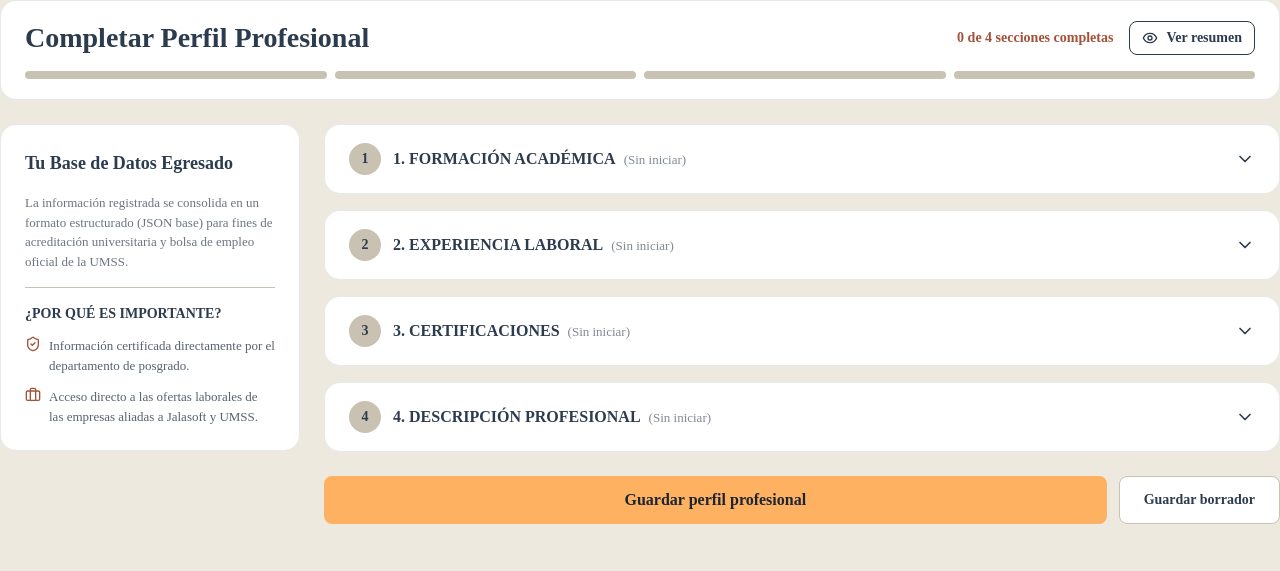
Test: Completar perfil · guardar formación académica en la API › 400: muestra el mensaje del backend y no agrega
Click the button "1 1. Formación académica (Sin iniciar)" at point(365, 159), box [325,125,1279,193]
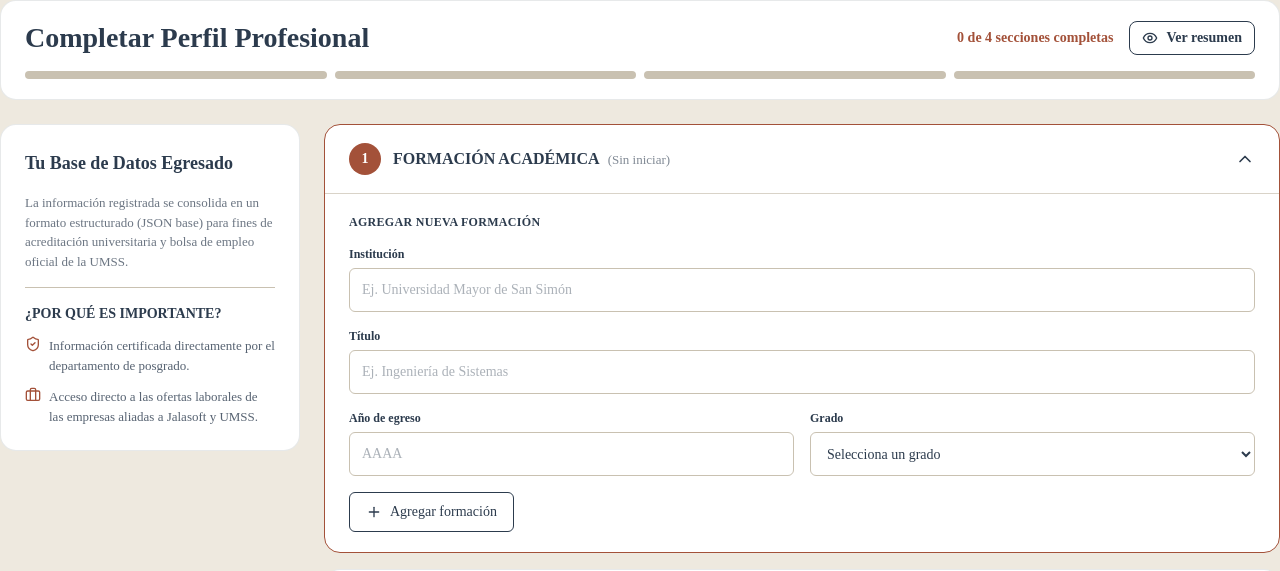
Type "UMSS" into the field labelled "Institución" at point(802, 290), box [349,268,1255,312]
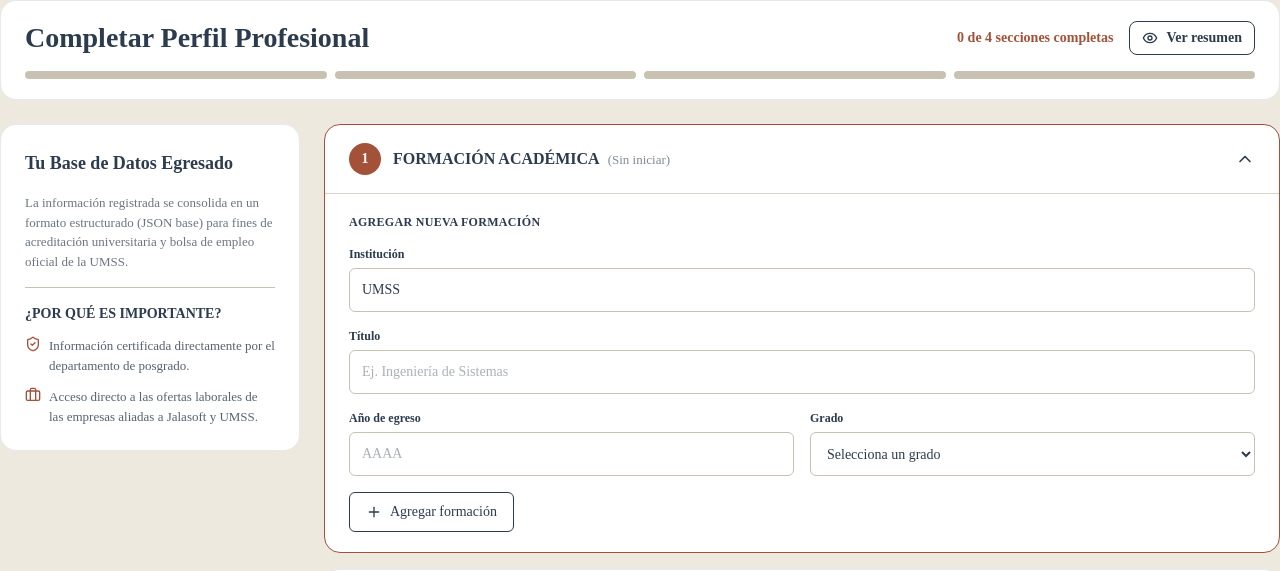
Type "Ingeniería de Sistemas" into the field labelled "Título" at point(802, 372), box [349,350,1255,394]
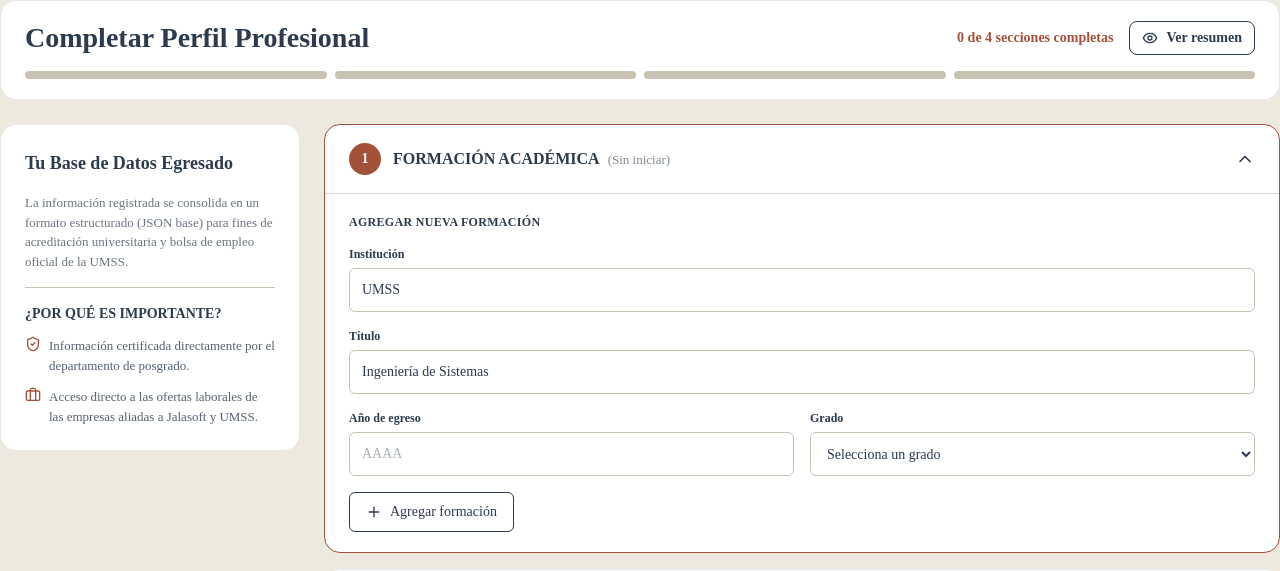
Type "2018" into the field labelled "Año de egreso" at point(572, 454), box [349,432,794,476]
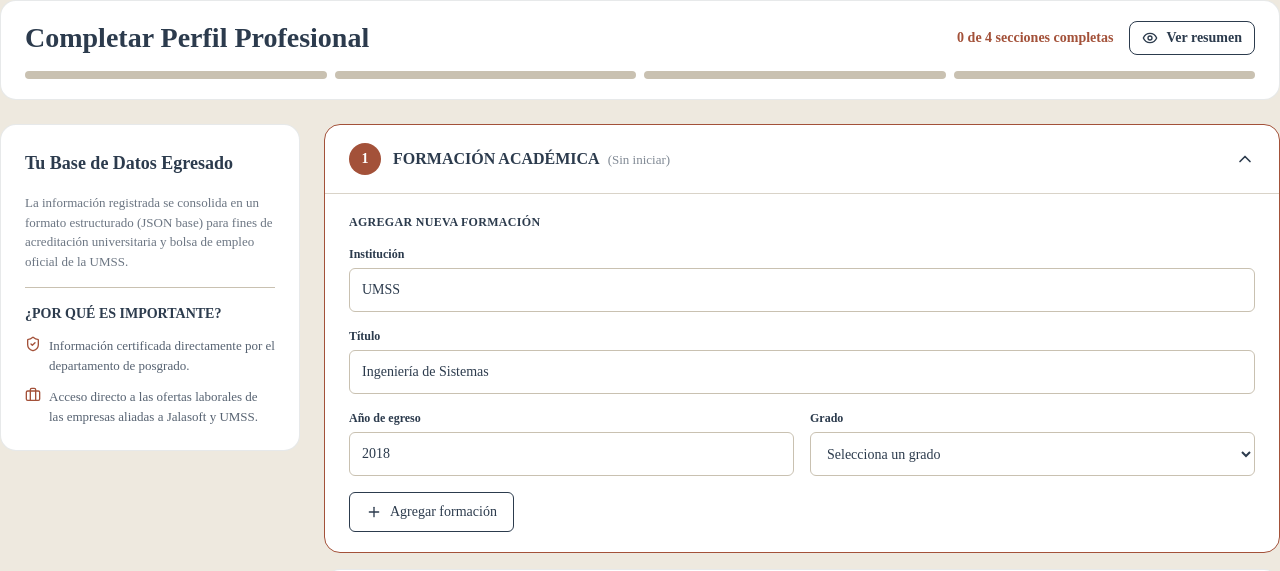
Select "Licenciatura" in the dropdown labelled "Grado" at point(1032, 454), box [810,432,1255,476]
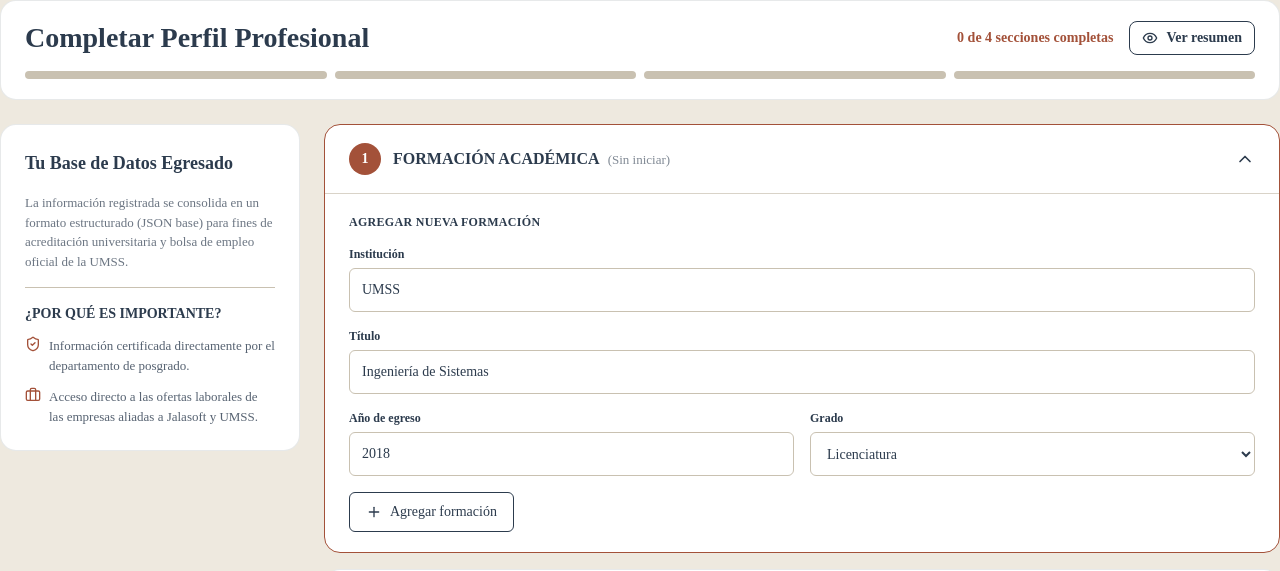
Click the button "Agregar formación" at point(431, 512), box [349,492,514,532]
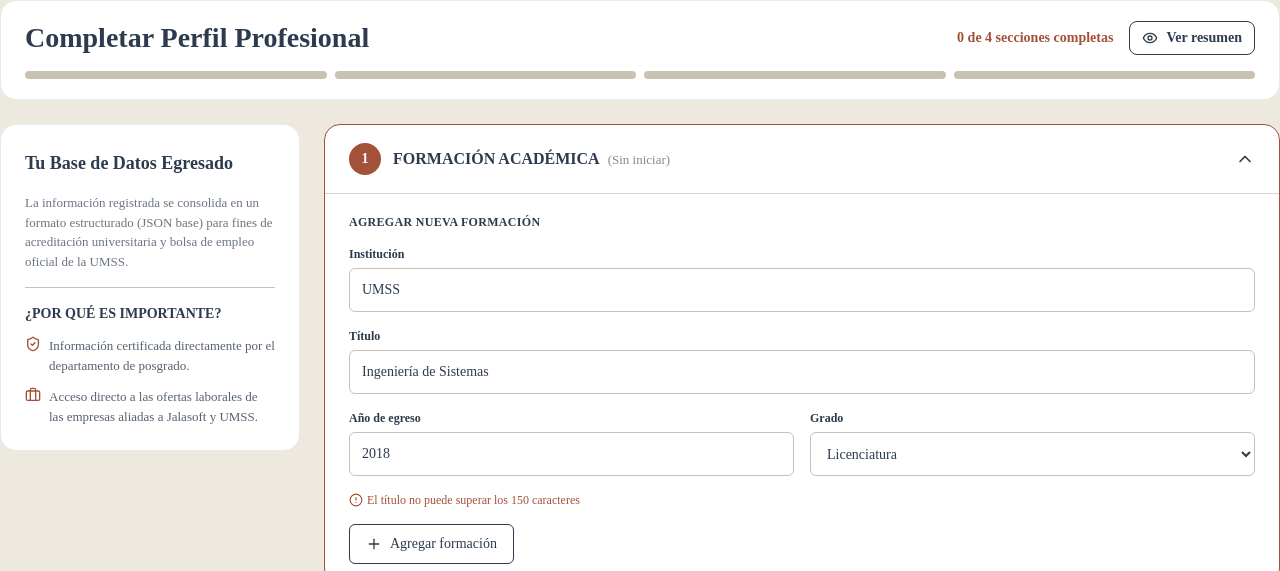
Check: the button "Agregar formación" is enabled, box [349,524,514,564]
Check: the text "El título no puede superar los 150 caracteres" is shown, box [349,493,580,507]
